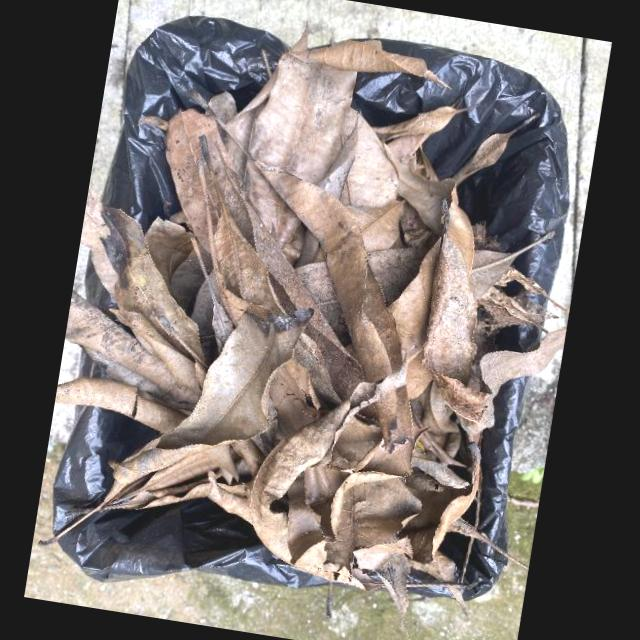la_cay: (209, 133, 365, 390), (285, 423, 451, 619), (247, 365, 406, 566), (250, 30, 449, 185), (263, 172, 403, 384), (90, 206, 210, 394), (50, 439, 266, 543), (155, 310, 313, 451), (421, 200, 495, 446), (65, 291, 200, 416), (199, 136, 283, 328), (165, 109, 233, 255), (55, 376, 192, 435), (372, 107, 468, 172), (479, 329, 566, 399), (470, 231, 555, 299), (340, 114, 399, 208), (246, 160, 302, 249), (398, 160, 456, 237), (452, 128, 521, 188), (348, 200, 405, 250), (343, 107, 357, 137)
